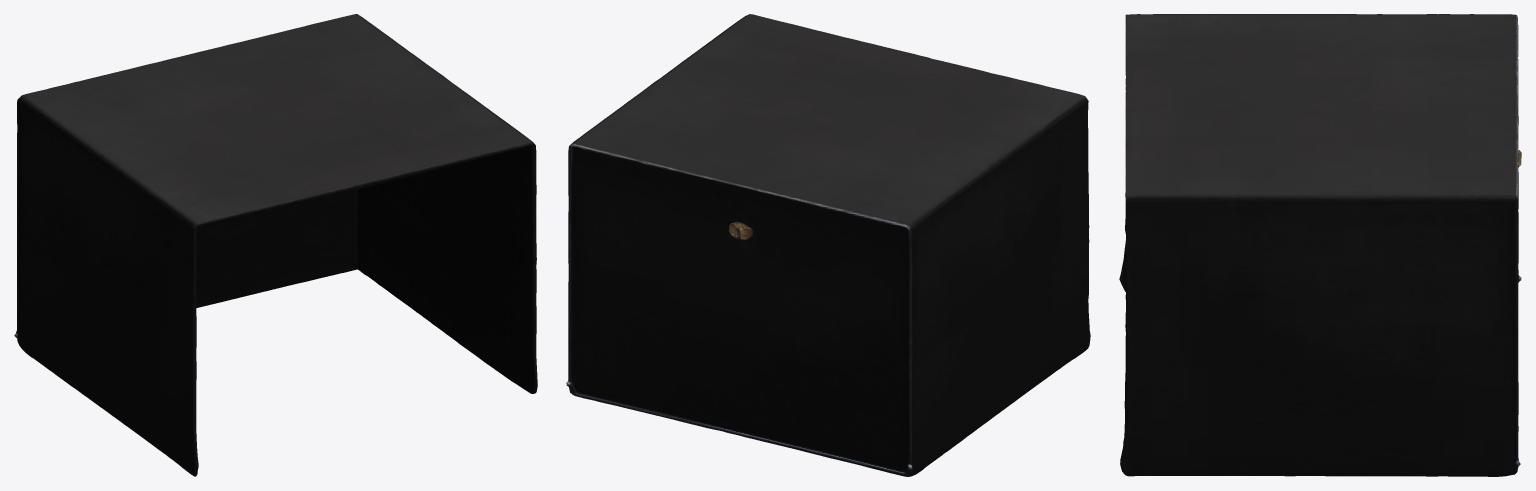
Rendered from ast_794404a15cd8.glb.
The picture shows the model from 3 angles, left to right: view 1: azimuth 30°, elevation 25°; view 2: azimuth 150°, elevation 25°; view 3: azimuth 270°, elevation 25°; orthographic projection. The views are drawn at different scales.
Visible parts, largest first — view 1: geometry_0; view 2: geometry_0; view 3: geometry_0.
Part boxes in pixels (box(x1,y1,x2,y2)): geometry_0: box(14, 14, 537, 476); geometry_0: box(566, 14, 1090, 476); geometry_0: box(1119, 14, 1521, 476).
Size of the model in its own units: 0.995 by 0.6983 by 0.9062.
1 material, 1 textured.
